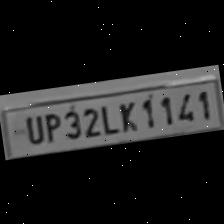1: (135, 92, 159, 130), (192, 85, 216, 121), (152, 91, 174, 127)
2: (78, 102, 102, 138)
3: (59, 104, 83, 140)
4: (169, 88, 197, 124)
K: (111, 96, 140, 134)
L: (96, 100, 120, 136)
P: (38, 108, 62, 142)
U: (19, 111, 44, 146)
